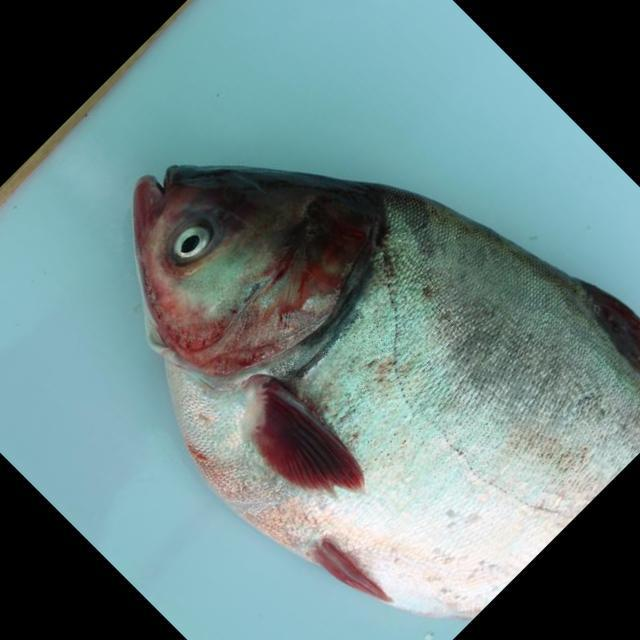SilverCarp: (132, 155, 640, 617)
